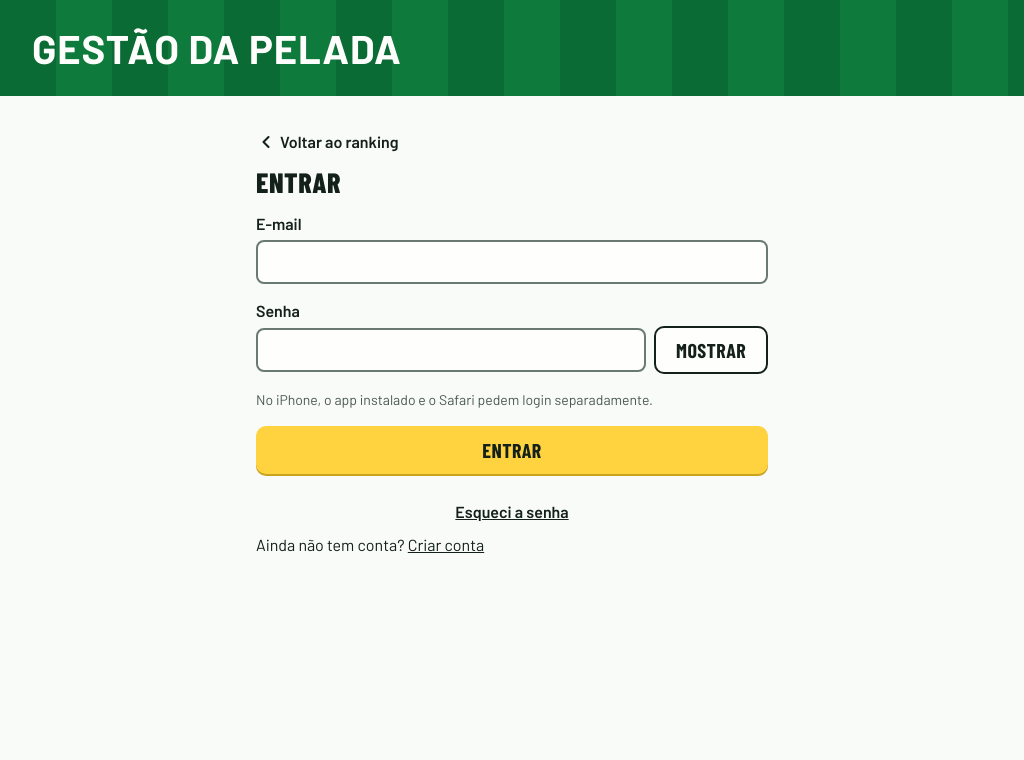
Test case: Entrar: e-mail não confirmado (ACE-12) › ACE-52: reenvio com e-mail indisponível mostra o erro
In the field labelled "E-mail": (512, 262) [256,240,768,284], type "ana@exemplo.com.br"
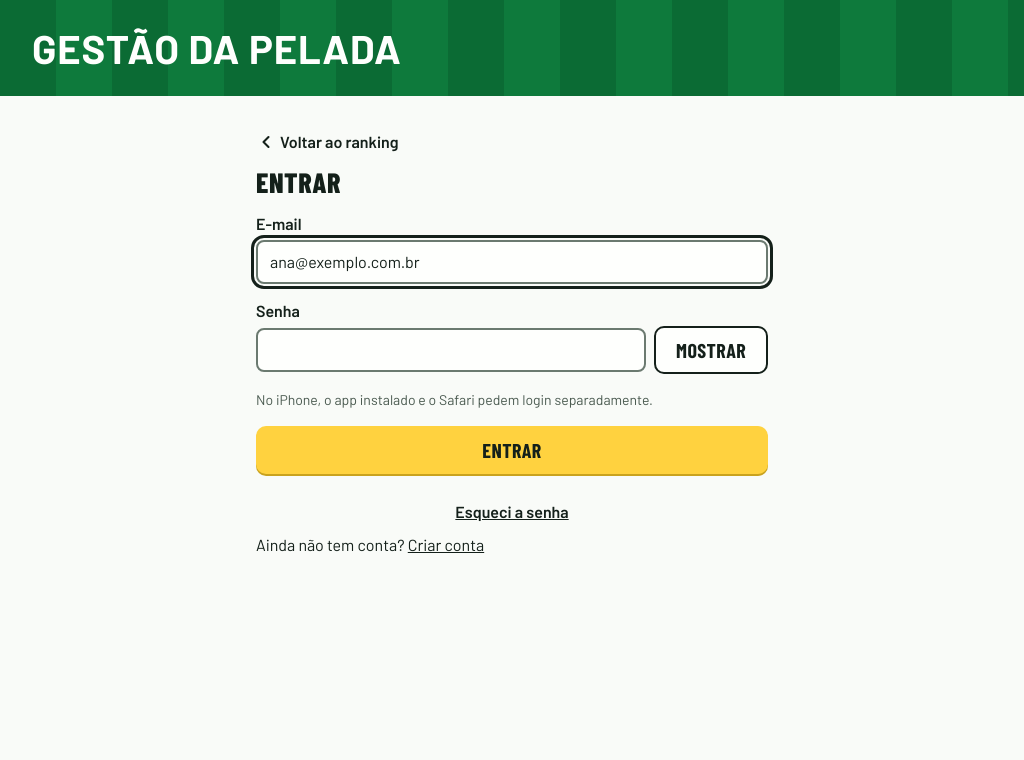
In the password field labelled "Senha": (451, 350) [256,328,646,372], type "senha-boa-123"
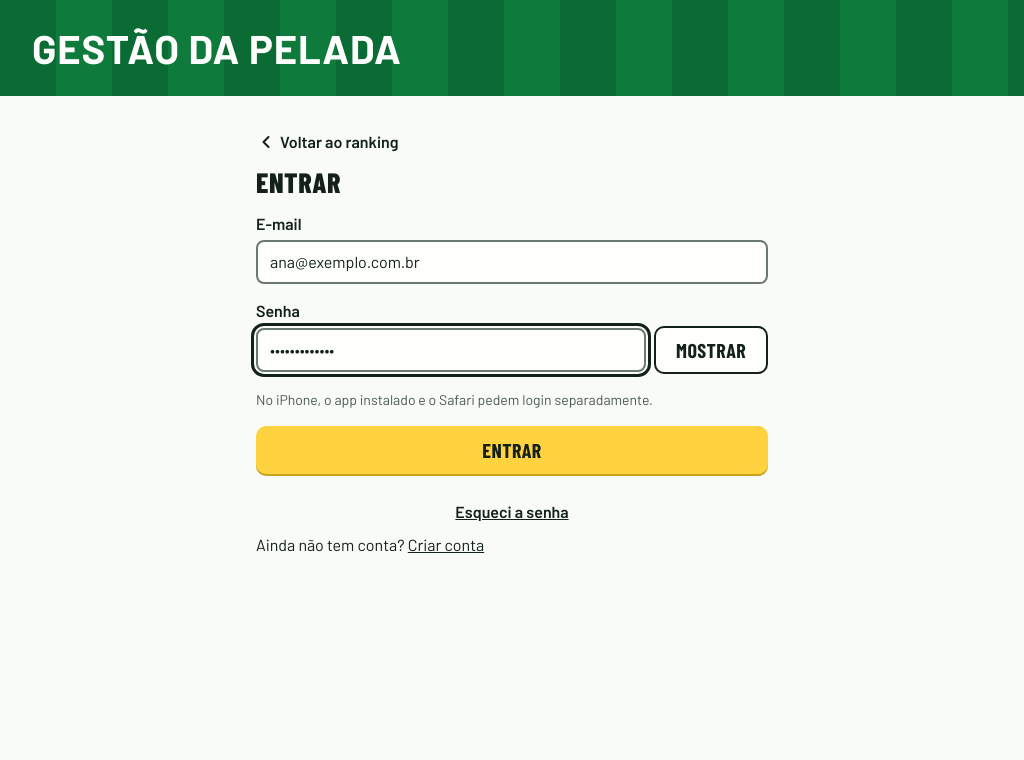
Click the button "Entrar": (512, 450) [256,426,768,474]
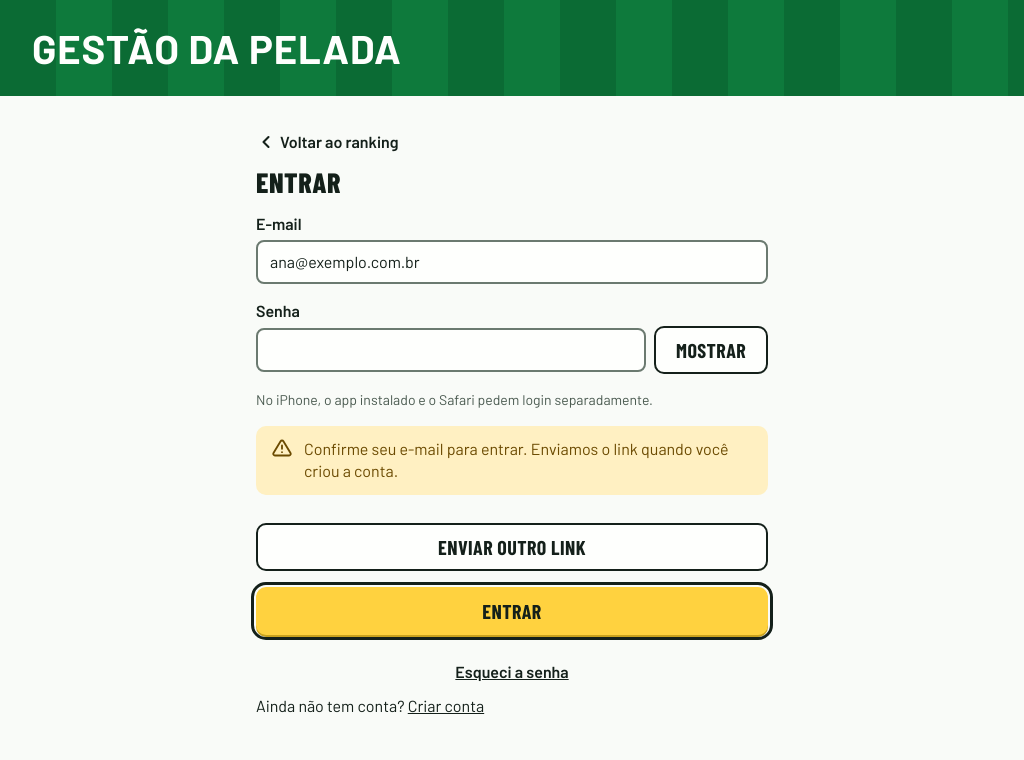
Click the button "Enviar outro link": (512, 546) [256,522,768,570]
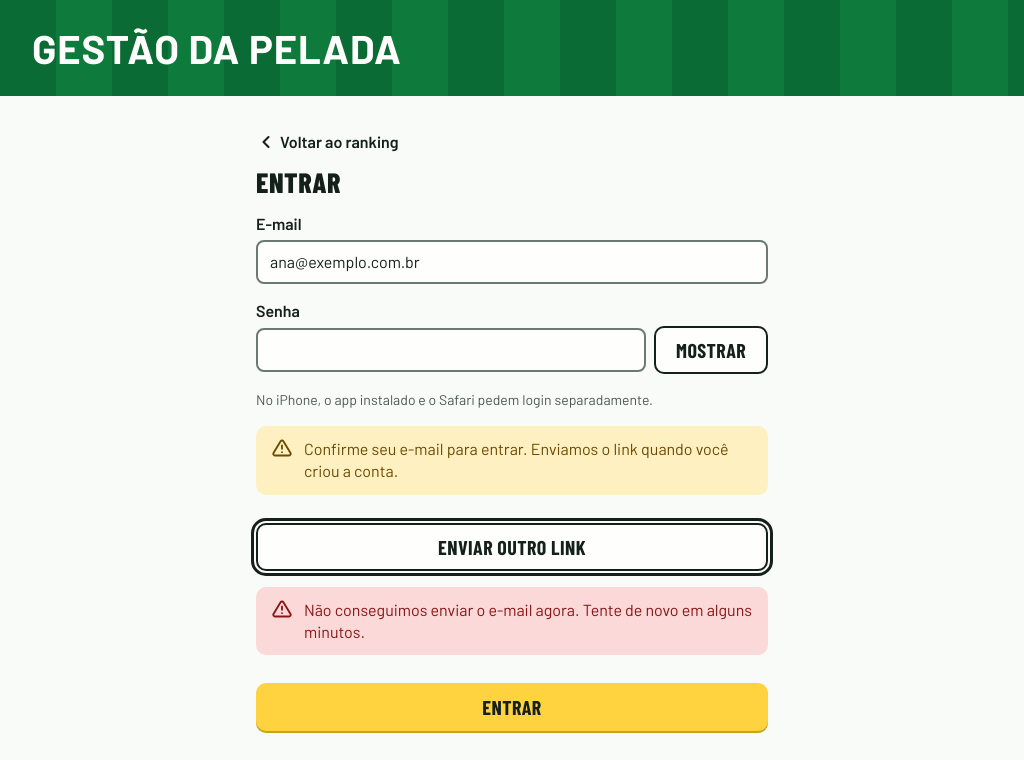
Result: the text "Não conseguimos enviar o e-mail agora. Tente de novo em alguns minutos." is shown at [304,598,752,643]
